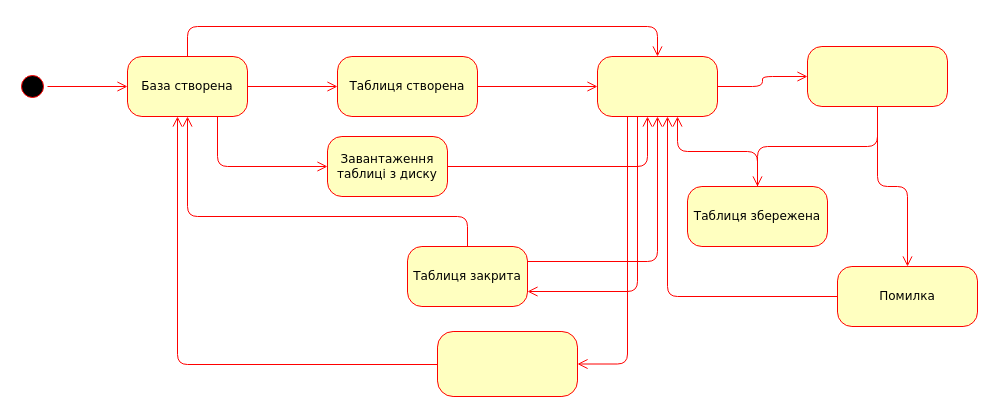
Some shapes in this 995 by 414 pixel diagram are drawn without their labels. Each missing label, with the centre of its shape:
Змінення даних у таблиці: point (877, 76)
Таблиця видалена: point (507, 363)
Таблиця відкрита: point (657, 86)
